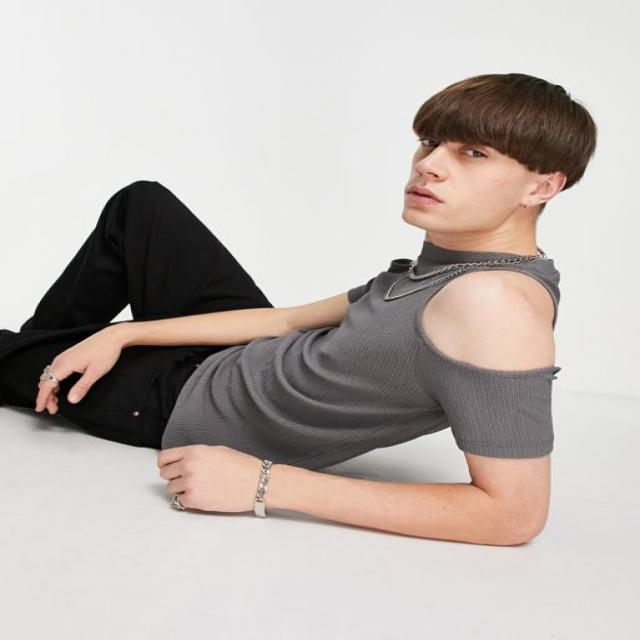tshirt: (160, 241, 564, 473)
